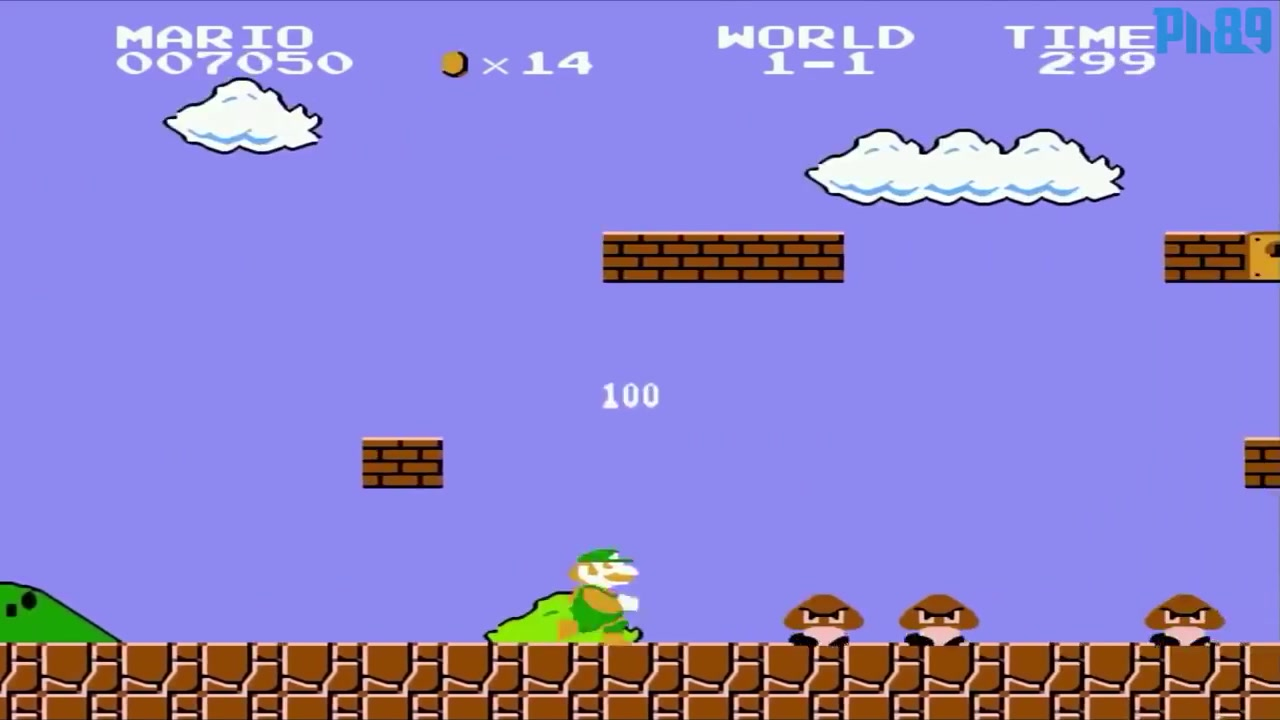mario: (552, 540, 641, 644)
